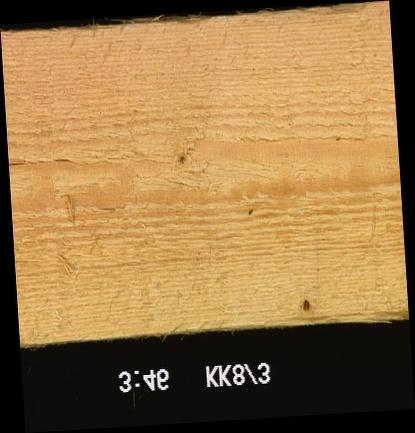dry_knot: (298, 296, 314, 312)
small_knot: (172, 151, 188, 165)
split: (8, 158, 71, 167)
wave: (164, 316, 408, 333)
